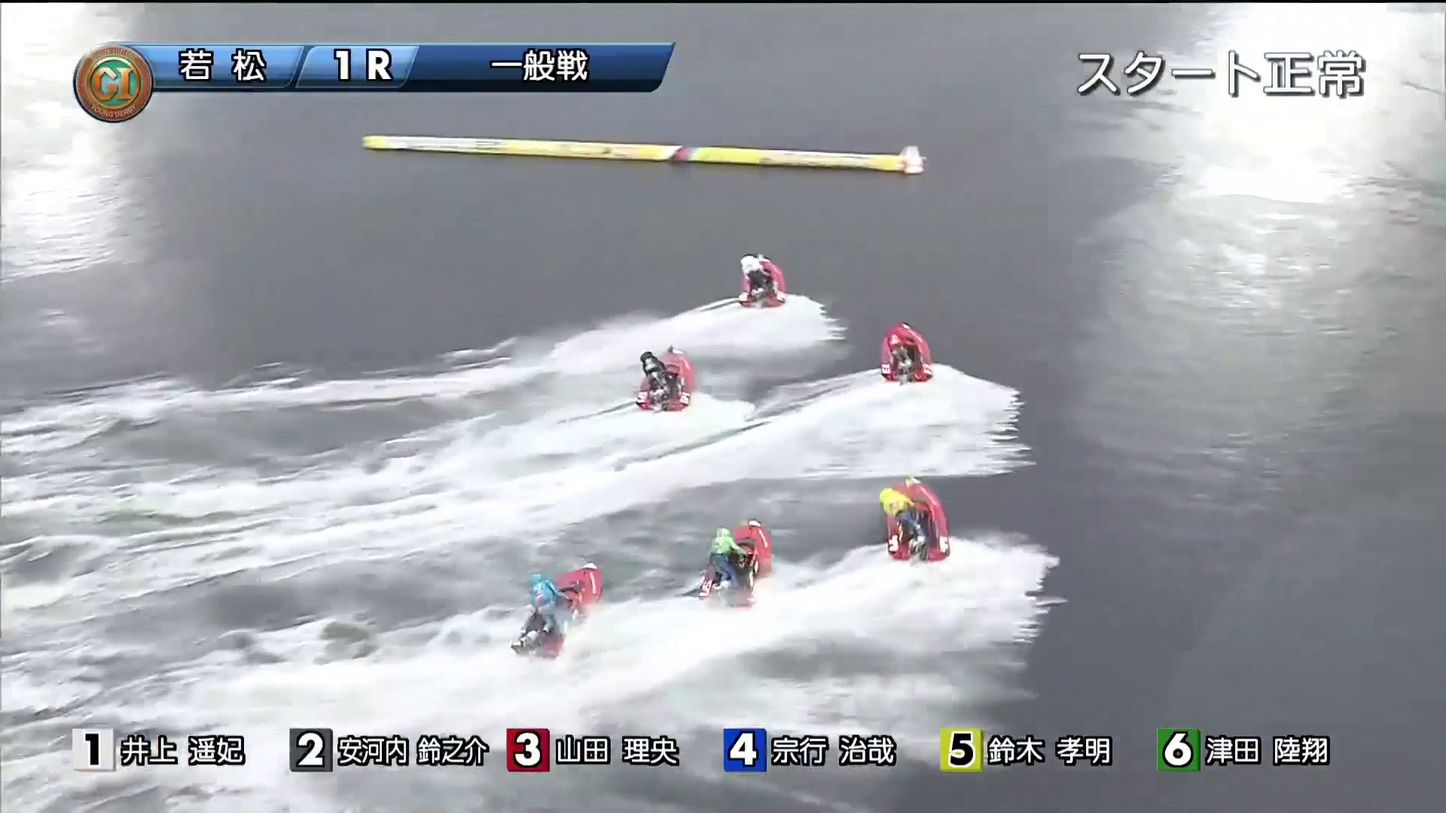１号艇: (715, 253, 785, 306)
２号艇: (610, 357, 738, 417)
３号艇: (848, 341, 946, 387)
４号艇: (653, 539, 787, 605)
５号艇: (462, 590, 586, 645)
６号艇: (869, 494, 968, 550)
